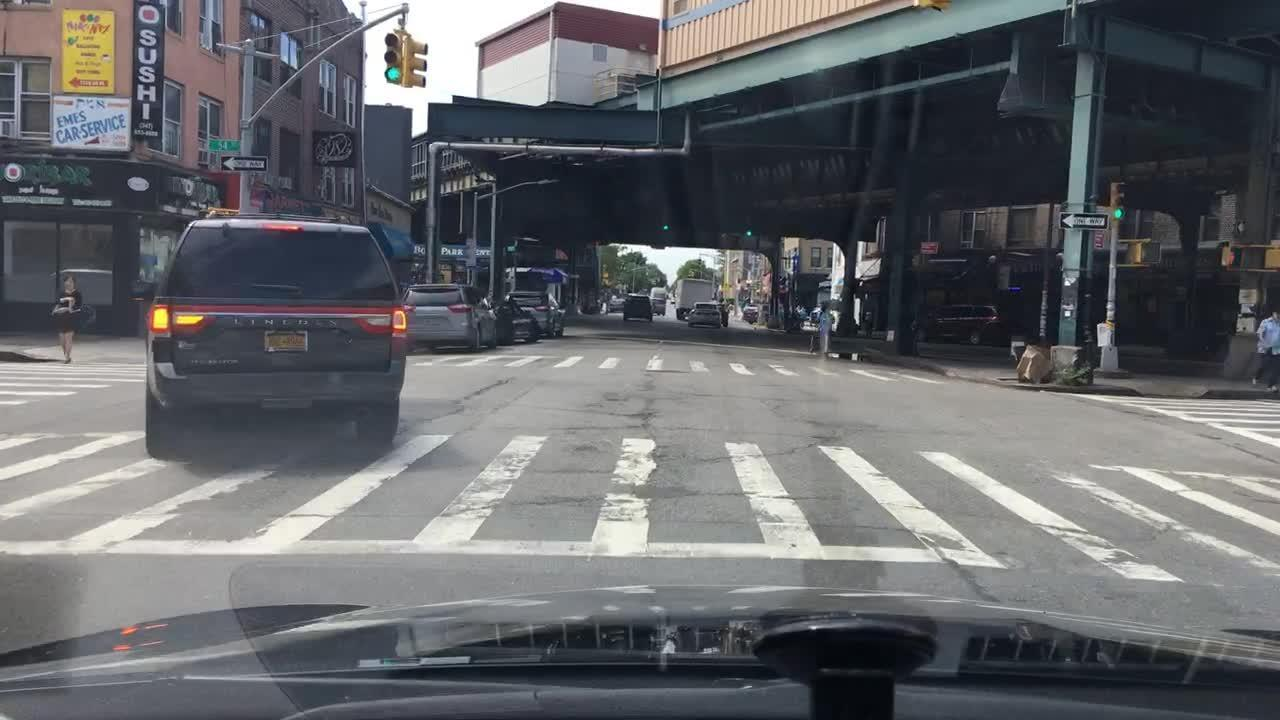lincoln: (230, 315, 343, 328)
